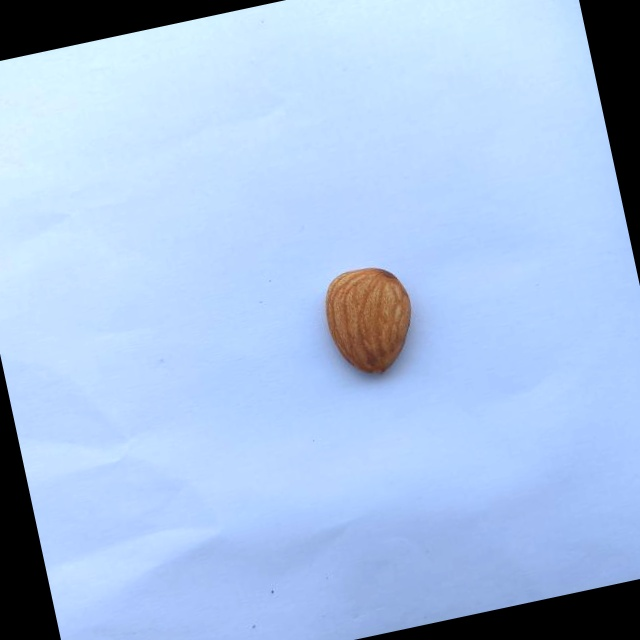grade1: (307, 252, 431, 392)
